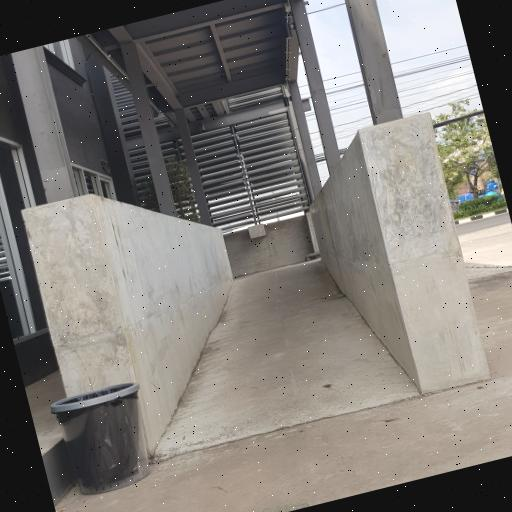ramp: (123, 238, 422, 460)
